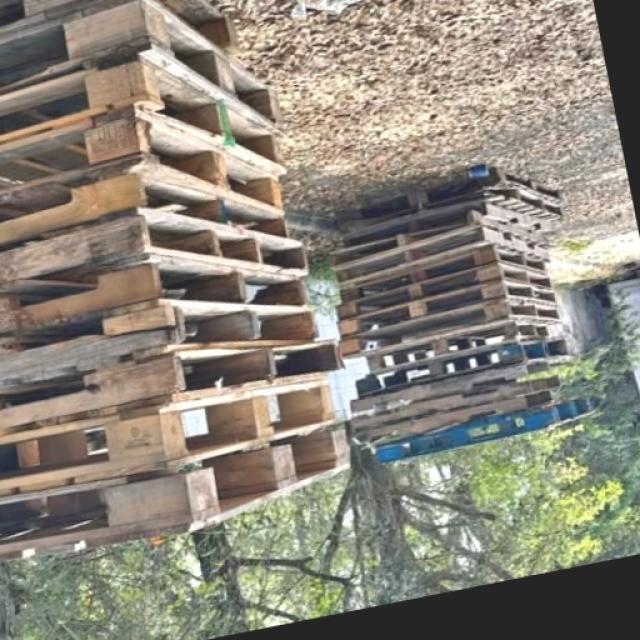non-igps: (0, 408, 360, 574), (0, 367, 346, 505), (0, 96, 295, 240), (0, 328, 350, 448), (0, 39, 293, 181), (0, 0, 285, 142), (0, 198, 316, 303), (0, 249, 318, 353), (0, 296, 326, 392), (0, 163, 298, 257), (366, 381, 608, 469), (344, 364, 557, 450), (331, 162, 568, 235), (331, 184, 558, 260), (335, 290, 566, 363), (345, 341, 556, 419), (342, 365, 566, 437), (329, 220, 554, 291), (331, 254, 557, 324), (333, 273, 561, 341), (335, 241, 551, 306), (363, 311, 556, 376)
